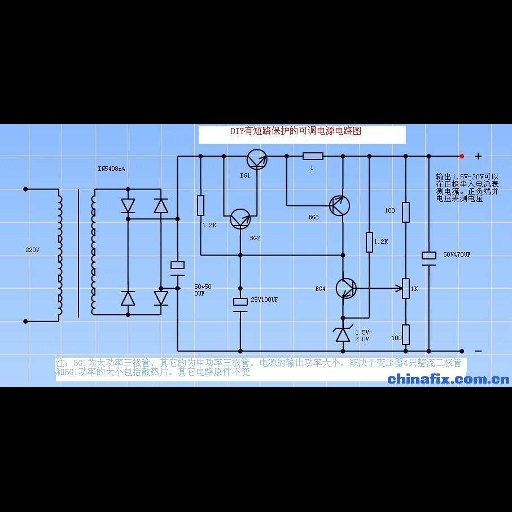firstresistance: (193, 192, 208, 217), (300, 149, 327, 162), (401, 199, 413, 228), (400, 322, 414, 345), (364, 230, 374, 255)
npn: (331, 196, 347, 216), (341, 279, 355, 300), (247, 154, 266, 168), (232, 214, 251, 228)
seconddiode: (116, 196, 140, 216), (118, 288, 138, 309), (151, 289, 170, 309), (150, 197, 171, 215)
transformer: (53, 189, 100, 318)
